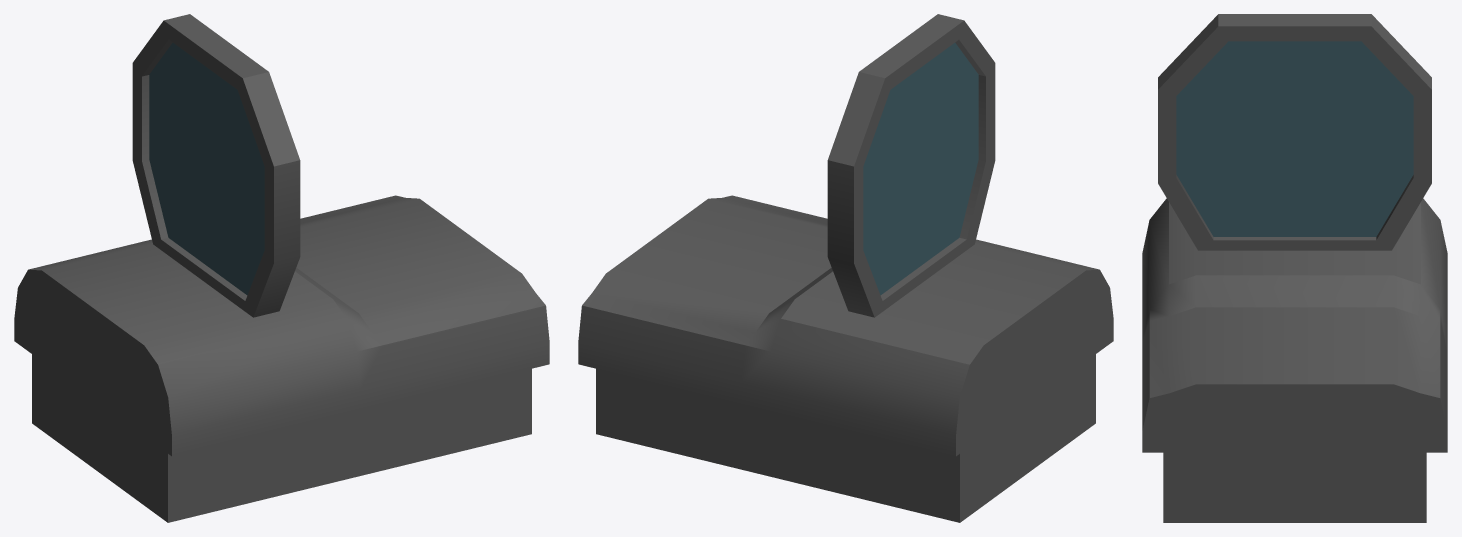
File: Sight_2.obj
3 views of the same model, side by side, from view 1: azimuth 30°, elevation 25°; view 2: azimuth 150°, elevation 25°; view 3: azimuth 270°, elevation 25° (orthographic). The views are drawn at different scales.
Visible parts, largest first — view 1: Sight_2_Cube.217; view 2: Sight_2_Cube.217; view 3: Sight_2_Cube.217.
Boxes of the visible parts, x1=… form: Sight_2_Cube.217: x1=14, y1=14, x2=549, y2=522; Sight_2_Cube.217: x1=578, y1=14, x2=1113, y2=522; Sight_2_Cube.217: x1=1142, y1=14, x2=1447, y2=522.
Size of the model in its own units: 0.1406 by 0.1418 by 0.1017.
